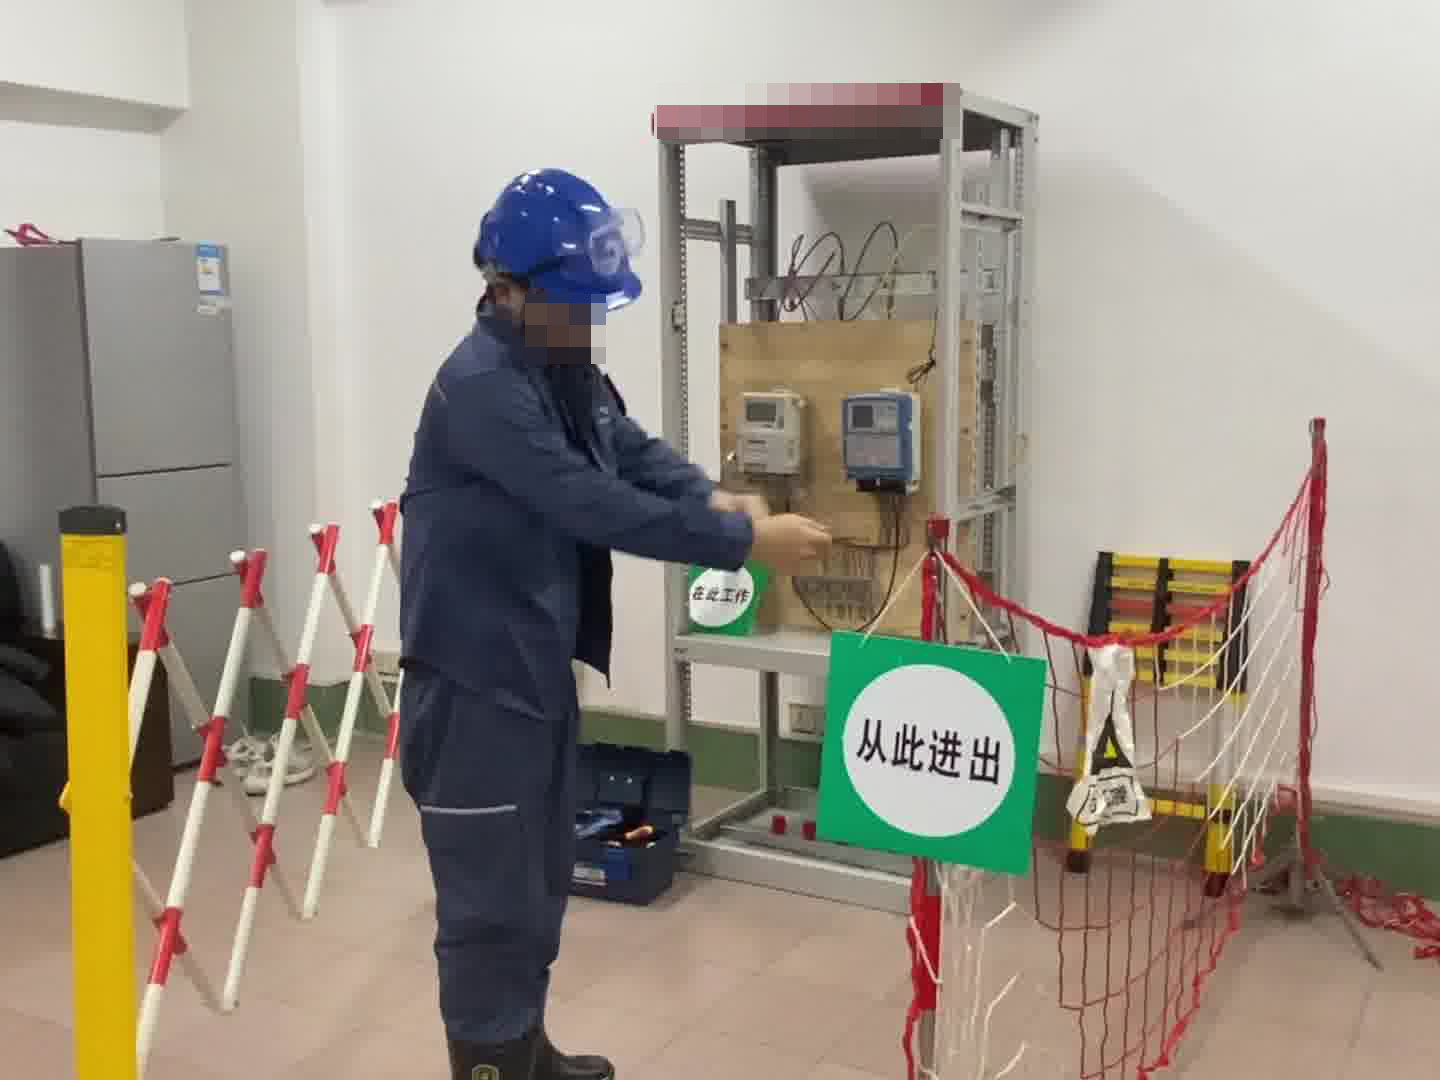downsuit: (390, 694, 589, 1059)
halt: (466, 165, 645, 349)
hand: (753, 511, 827, 580)
inear: (481, 263, 547, 334)
intosign: (810, 632, 1050, 876)
person: (360, 159, 771, 1079)
upsuit: (379, 333, 745, 695)
worksign: (687, 555, 763, 637)
wrongsuit: (538, 354, 618, 708)
